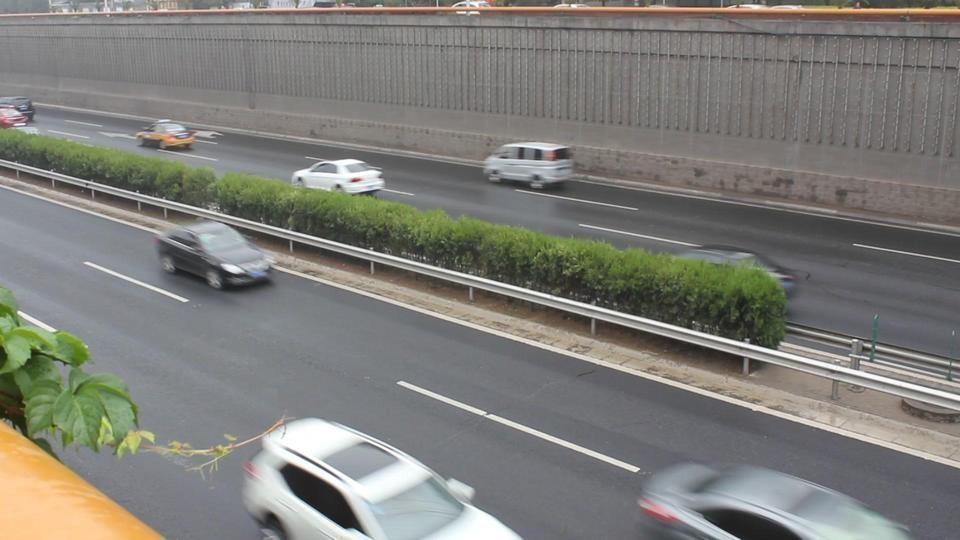car: (240, 414, 523, 538), (638, 460, 912, 537), (154, 221, 276, 290), (483, 141, 576, 189), (291, 158, 385, 196), (136, 120, 197, 151), (0, 96, 34, 126)
